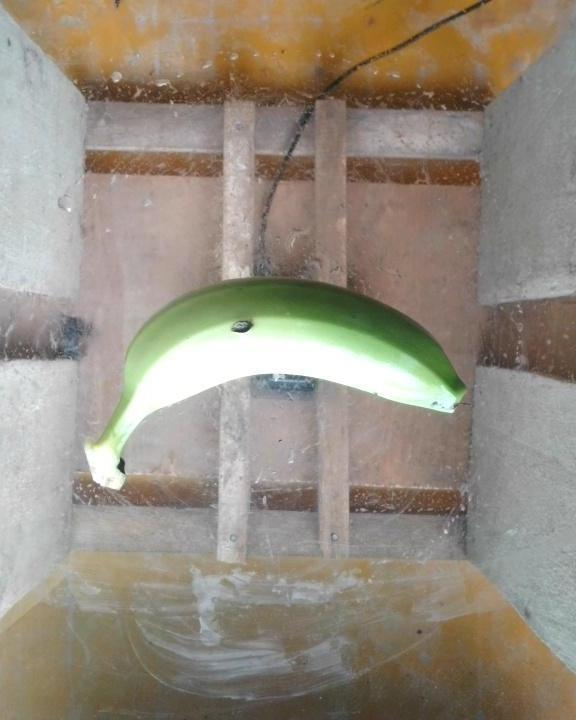CLASS B: (79, 268, 487, 505)
Class A: (227, 308, 263, 342)
